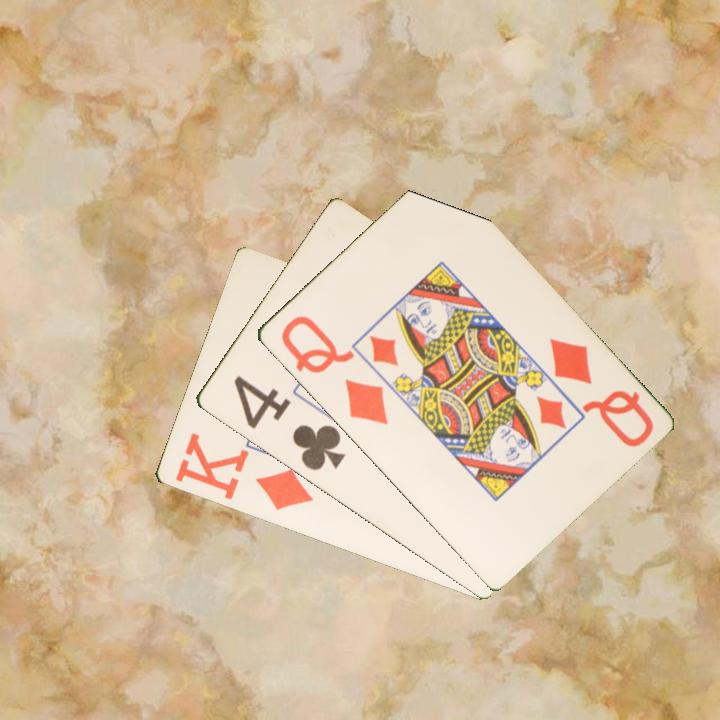4c: (229, 372, 348, 474)
Kd: (171, 429, 316, 514)
Qd: (276, 312, 391, 428), (545, 334, 656, 451)
